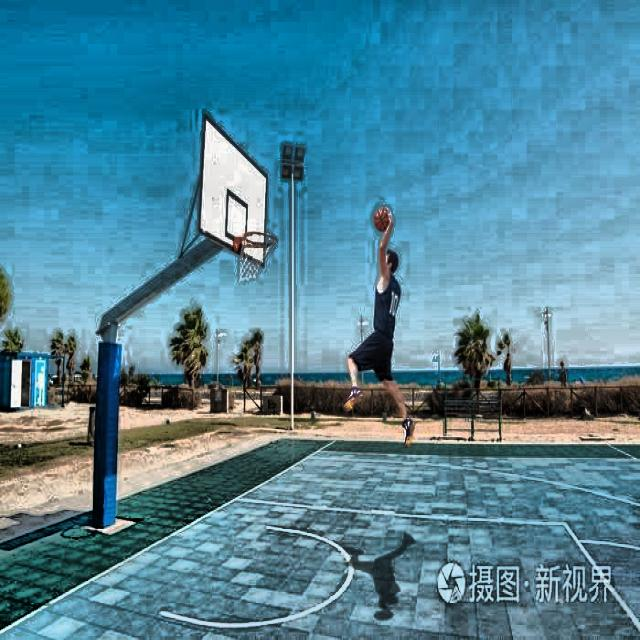board: (374, 208, 389, 231)
rim: (239, 230, 278, 284)
